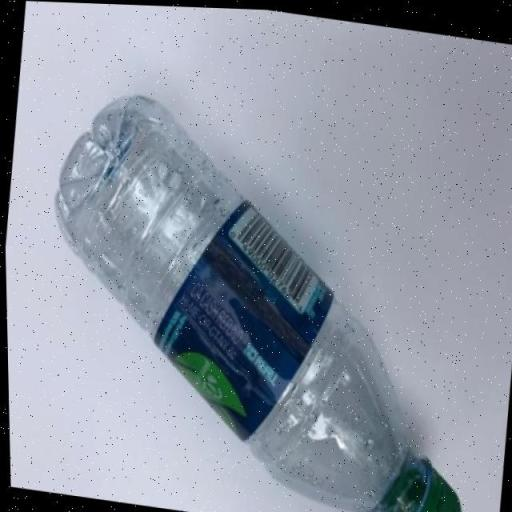plastic: (19, 81, 499, 512)
